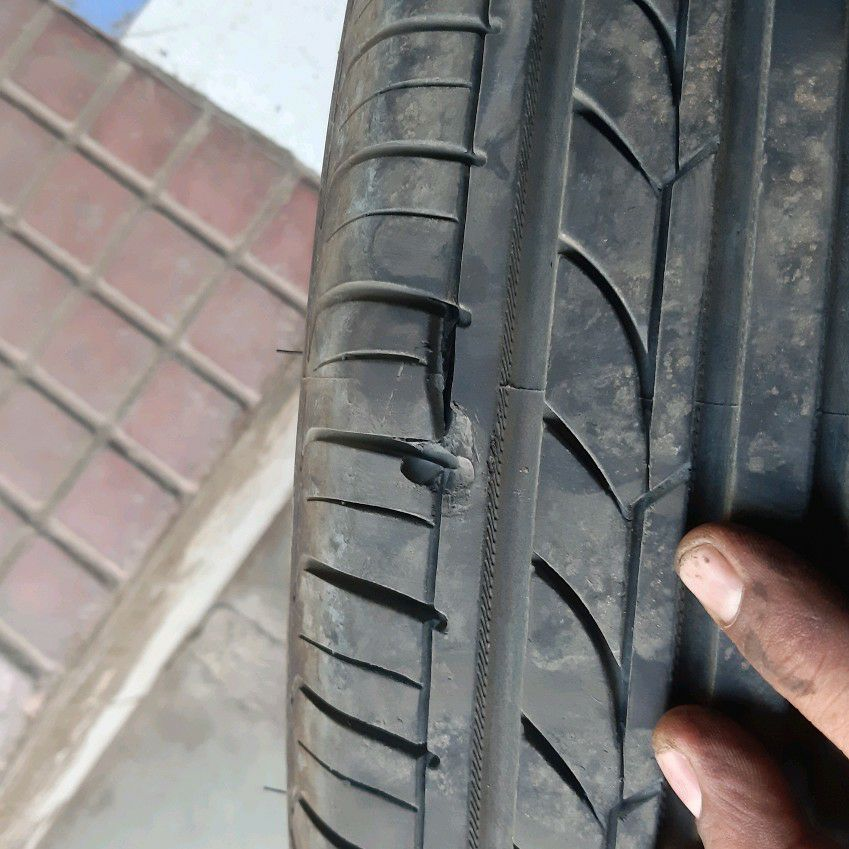tr: (392, 301, 480, 521)
